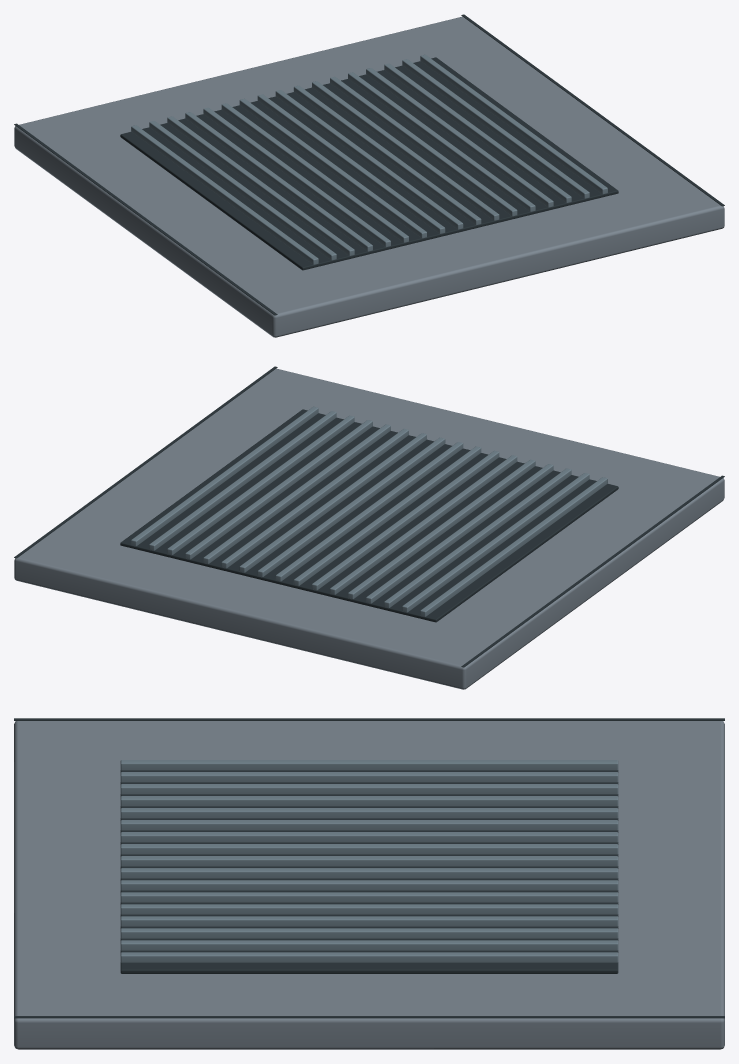
File: SM_FE_GrateFloor.fbx
The picture shows the model from 3 angles, top to bottom: view 1: azimuth 30°, elevation 25°; view 2: azimuth 150°, elevation 25°; view 3: azimuth 270°, elevation 25°; orthographic projection. The views are drawn at different scales.
Parts seen in each view (by area): view 1: SM_FE_GrateFloor; view 2: SM_FE_GrateFloor; view 3: SM_FE_GrateFloor.
Boxes of the visible parts, <box> form: SM_FE_GrateFloor: <box>14,14,724,337</box>; SM_FE_GrateFloor: <box>14,366,724,689</box>; SM_FE_GrateFloor: <box>14,718,724,1049</box>.
Bounding box in the file's own units: 400 × 400 × 27.
